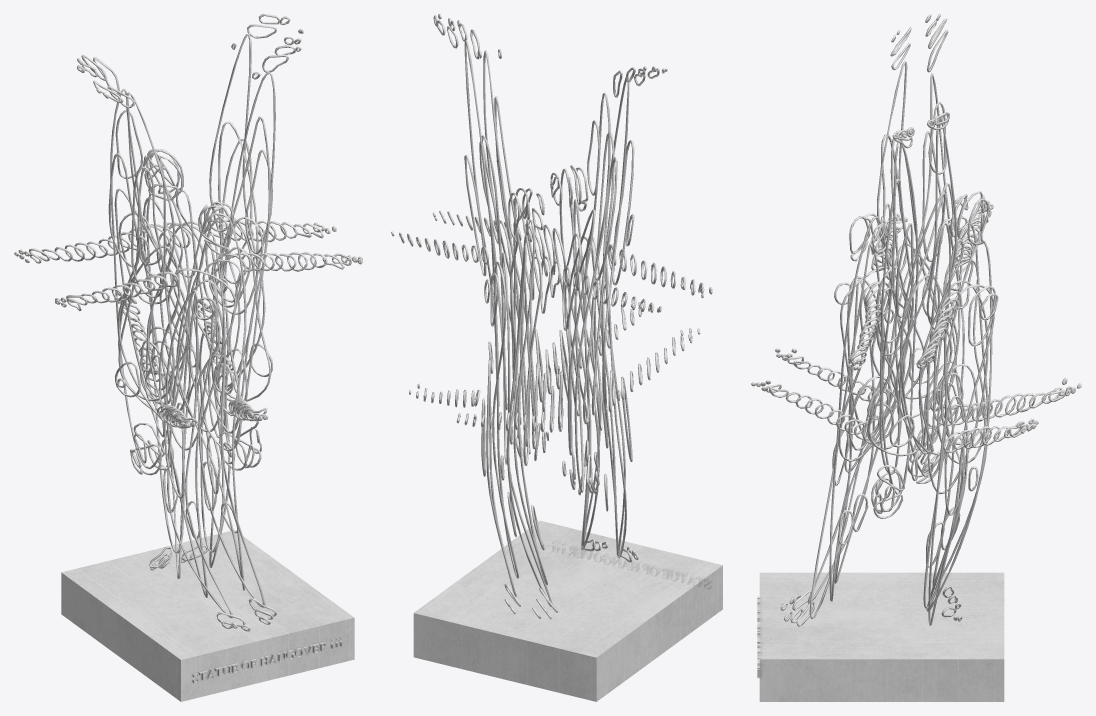
File: soh-3-v137.glb
3 views of the same model, side by side, from view 1: azimuth 30°, elevation 25°; view 2: azimuth 150°, elevation 25°; view 3: azimuth 270°, elevation 25° (orthographic). The views are drawn at different scales.
Visible parts, largest first — view 1: SOH-iii; view 2: SOH-iii; view 3: SOH-iii.
Part boxes in pixels (x1=…): SOH-iii: x1=14, y1=14, x2=362, y2=701; SOH-iii: x1=391, y1=14, x2=722, y2=701; SOH-iii: x1=751, y1=14, x2=1081, y2=701.
Size of the model in its own units: 6.43 by 12.2 by 6.15.
Materials: 2 (1 with a texture image).
